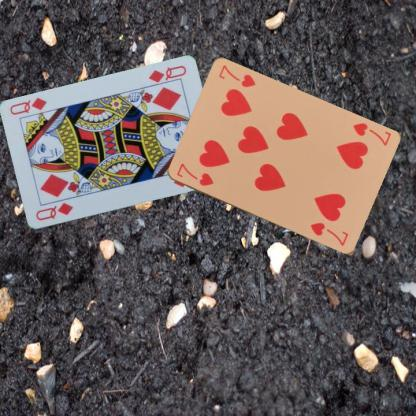7h: (350, 121, 392, 148), (174, 160, 214, 188)
Qd: (145, 63, 188, 89), (33, 200, 74, 222)
